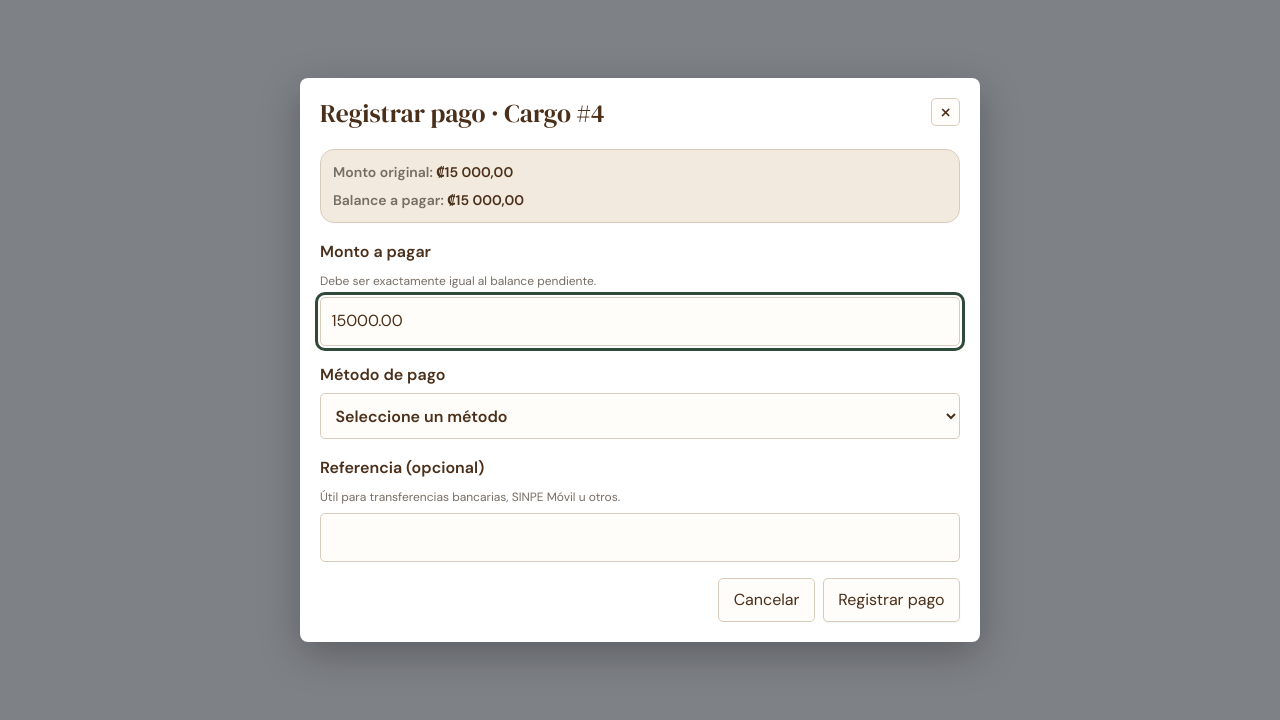
Test: FinancialPaymentModal › requires a valid amount and method on submit
Replace the text in the field labelled "Monto a pagar" with "0". click: x=640, y=321
box: x1=320 y1=297 x2=960 y2=346
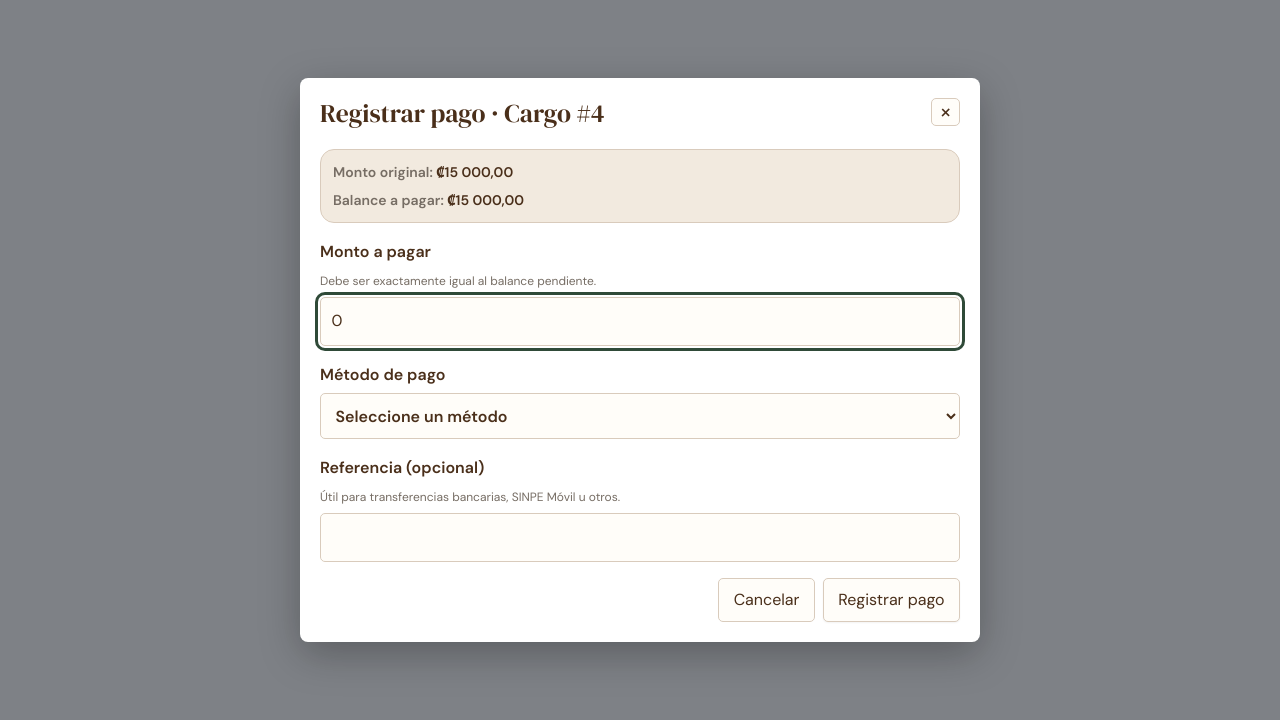
Click the button "Registrar pago". click: x=891, y=600
box: x1=823 y1=578 x2=960 y2=622
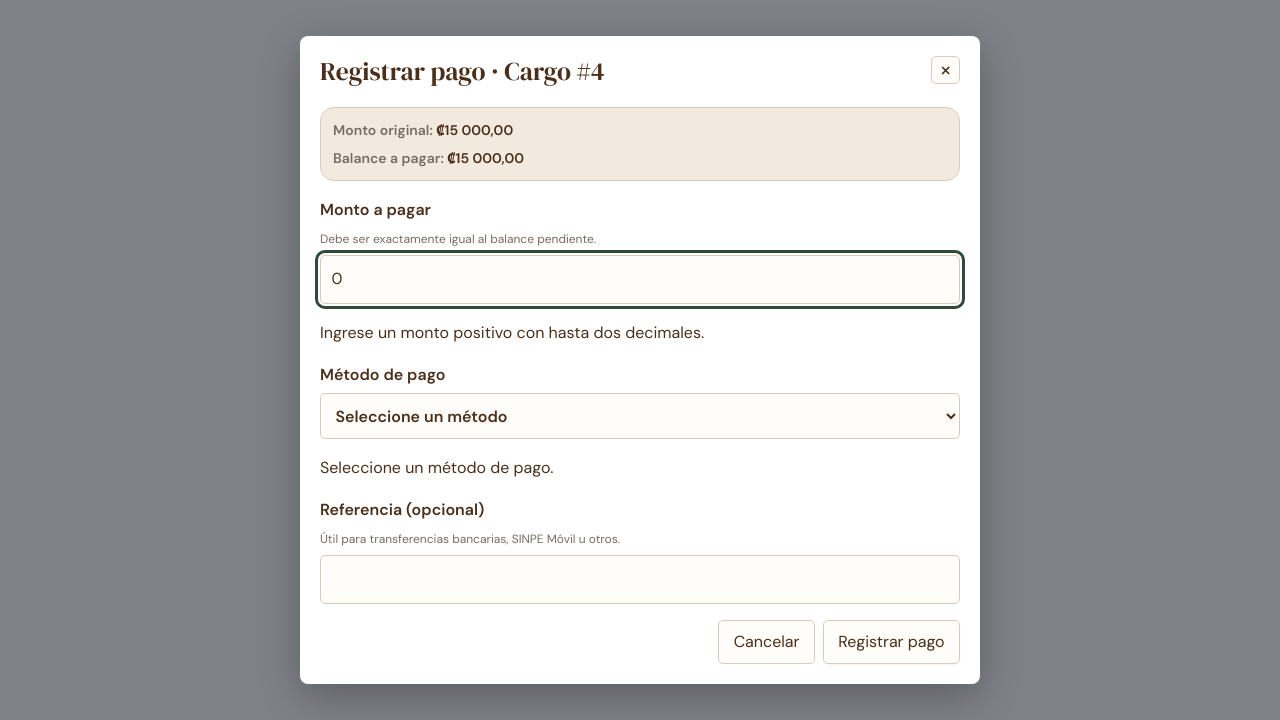
Now the text "Ingrese un monto positivo con hasta dos decimales." is shown, box x1=320 y1=322 x2=704 y2=343
Now the text "Seleccione un método de pago." is shown, box x1=320 y1=457 x2=554 y2=478
